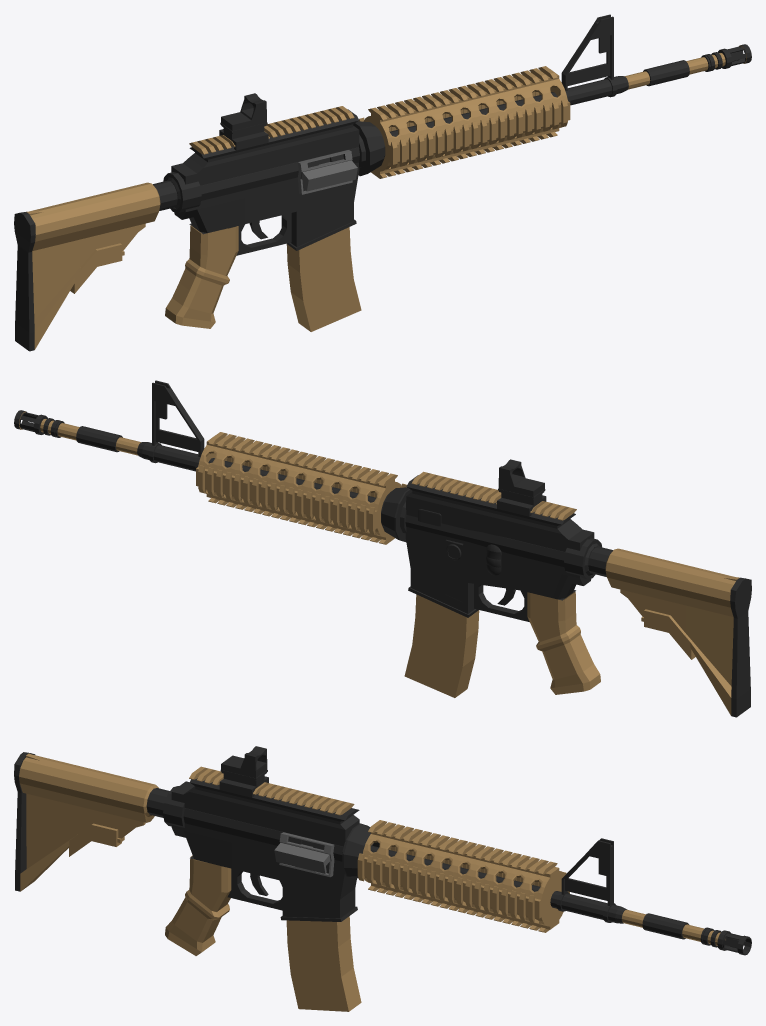
File: M4 Rifle Reflex.fbx
3 renders of one model, top to bottom at view 1: azimuth 30°, elevation 25°; view 2: azimuth 150°, elevation 25°; view 3: azimuth 330°, elevation 25°, orthographic.
Visible parts, largest first — view 1: Gun, Barrel Attachment, Stock, Magazine, Handle, Barrel, Iron Sight, Reflex Scope, Rail Top, Barrel Part; view 2: Gun, Barrel Attachment, Stock, Magazine, Handle, Barrel, Iron Sight, Reflex Scope, Rail Top, Barrel Part, Side Piece 2; view 3: Gun, Barrel Attachment, Stock, Magazine, Handle, Barrel, Iron Sight, Rail Top, Reflex Scope, Barrel Part.
Part boxes in pixels (left/top/right/bottom): Gun: left=163, top=109, right=359, bottom=255; Barrel Attachment: left=358, top=66, right=570, bottom=178; Stock: left=14, top=180, right=177, bottom=351; Magazine: left=286, top=227, right=361, bottom=331; Handle: left=165, top=225, right=238, bottom=328; Barrel: left=389, top=44, right=751, bottom=136; Iron Sight: left=561, top=14, right=617, bottom=103; Reflex Scope: left=219, top=93, right=268, bottom=150; Rail Top: left=189, top=106, right=354, bottom=154; Barrel Part: left=353, top=121, right=385, bottom=176; Gun: left=405, top=475, right=601, bottom=621; Barrel Attachment: left=196, top=432, right=406, bottom=544; Stock: left=588, top=546, right=751, bottom=717; Magazine: left=404, top=594, right=479, bottom=697; Handle: left=527, top=591, right=600, bottom=694; Barrel: left=14, top=410, right=376, bottom=502; Iron Sight: left=148, top=380, right=204, bottom=471; Reflex Scope: left=497, top=459, right=546, bottom=516; Rail Top: left=411, top=471, right=576, bottom=520; Barrel Part: left=381, top=487, right=412, bottom=541; Side Piece 2: left=445, top=539, right=463, bottom=602; Gun: left=163, top=778, right=359, bottom=921; Barrel Attachment: left=357, top=820, right=569, bottom=932; Stock: left=14, top=752, right=169, bottom=891; Magazine: left=286, top=916, right=361, bottom=1011; Handle: left=165, top=855, right=231, bottom=955; Barrel: left=370, top=846, right=751, bottom=955; Iron Sight: left=556, top=838, right=615, bottom=922; Rail Top: left=189, top=766, right=354, bottom=815; Reflex Scope: left=219, top=746, right=268, bottom=797; Barrel Part: left=342, top=823, right=379, bottom=878.
Size of the model in its own units: 472 by 150 by 39.69.
